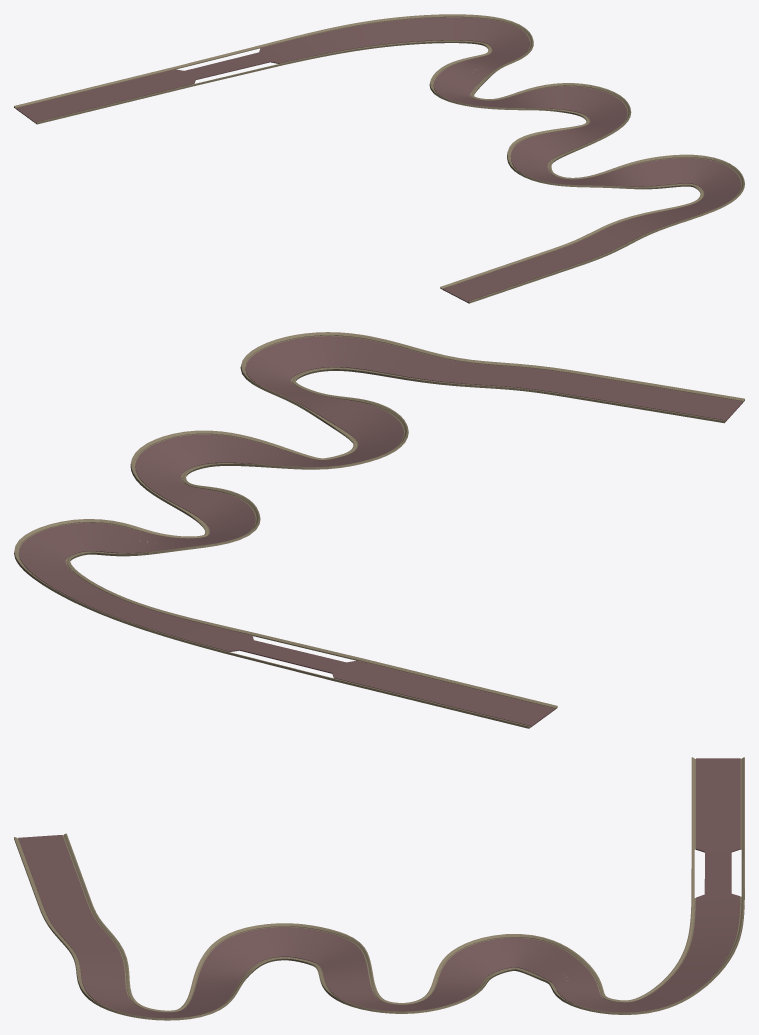
The model's file is Abschnitt3.fbx.
The picture shows the model from 3 angles, top to bottom: view 1: azimuth 30°, elevation 25°; view 2: azimuth 150°, elevation 25°; view 3: azimuth 270°, elevation 25°; orthographic projection. The views are drawn at different scales.
Parts seen in each view (by area): view 1: StrasseSlalom; view 2: StrasseSlalom; view 3: StrasseSlalom.
Part boxes in pixels (x1,y1,x2,y2): StrasseSlalom: (14, 14, 744, 303); StrasseSlalom: (14, 332, 744, 728); StrasseSlalom: (14, 757, 744, 1020).
Size of the model in its own units: 49303 by 1352 by 56812.
